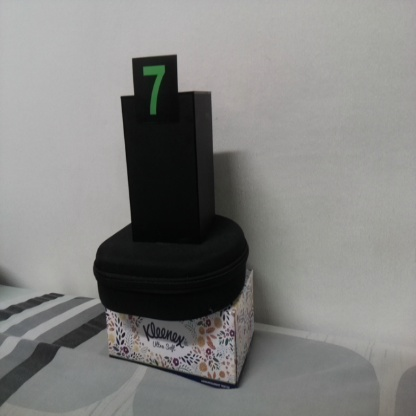id_7: (133, 59, 178, 128)
